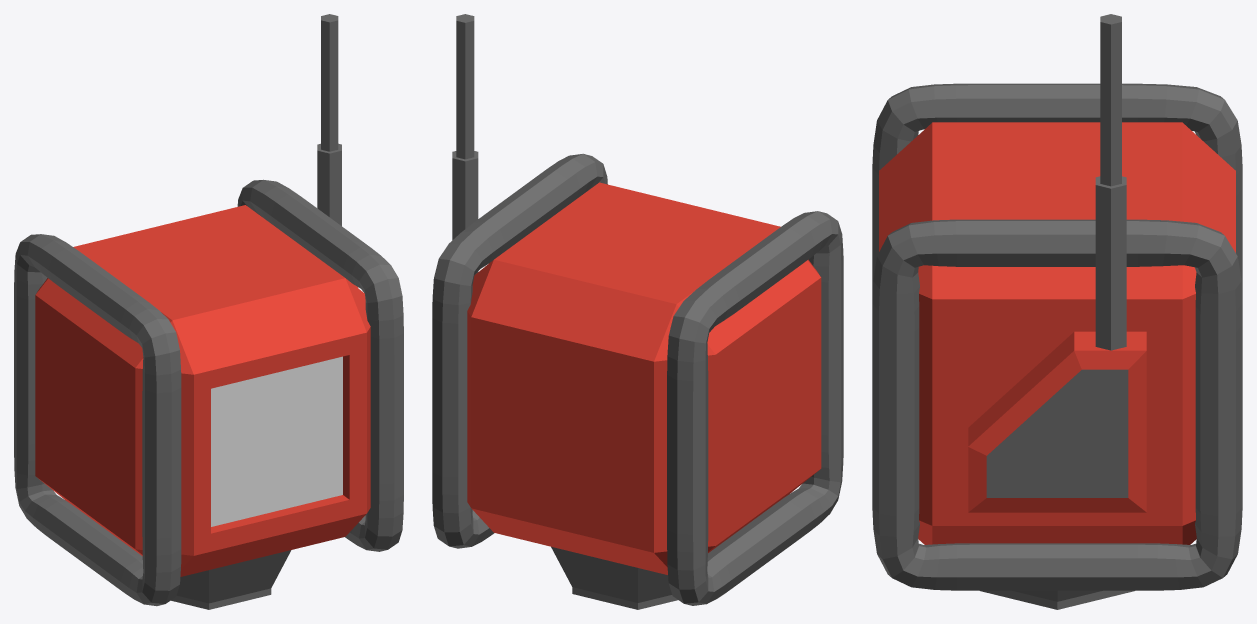
Rendered from Mini Robot.fbx.
The picture shows the model from 3 angles, left to right: view 1: azimuth 30°, elevation 25°; view 2: azimuth 150°, elevation 25°; view 3: azimuth 270°, elevation 25°; orthographic projection. The views are drawn at different scales.
Parts seen in each view (by area): view 1: Body, Eye, Antenna; view 2: Body, Antenna; view 3: Body, Antenna.
Part boxes in pixels (x1=…): Body: x1=14, y1=179, x2=403, y2=609; Eye: x1=211, y1=356, x2=342, y2=526; Antenna: x1=317, y1=14, x2=357, y2=287; Body: x1=432, y1=153, x2=843, y2=609; Antenna: x1=452, y1=14, x2=478, y2=273; Body: x1=872, y1=83, x2=1242, y2=609; Antenna: x1=968, y1=14, x2=1146, y2=512.
Bounding box in the file's own units: 232 × 395 × 208.
